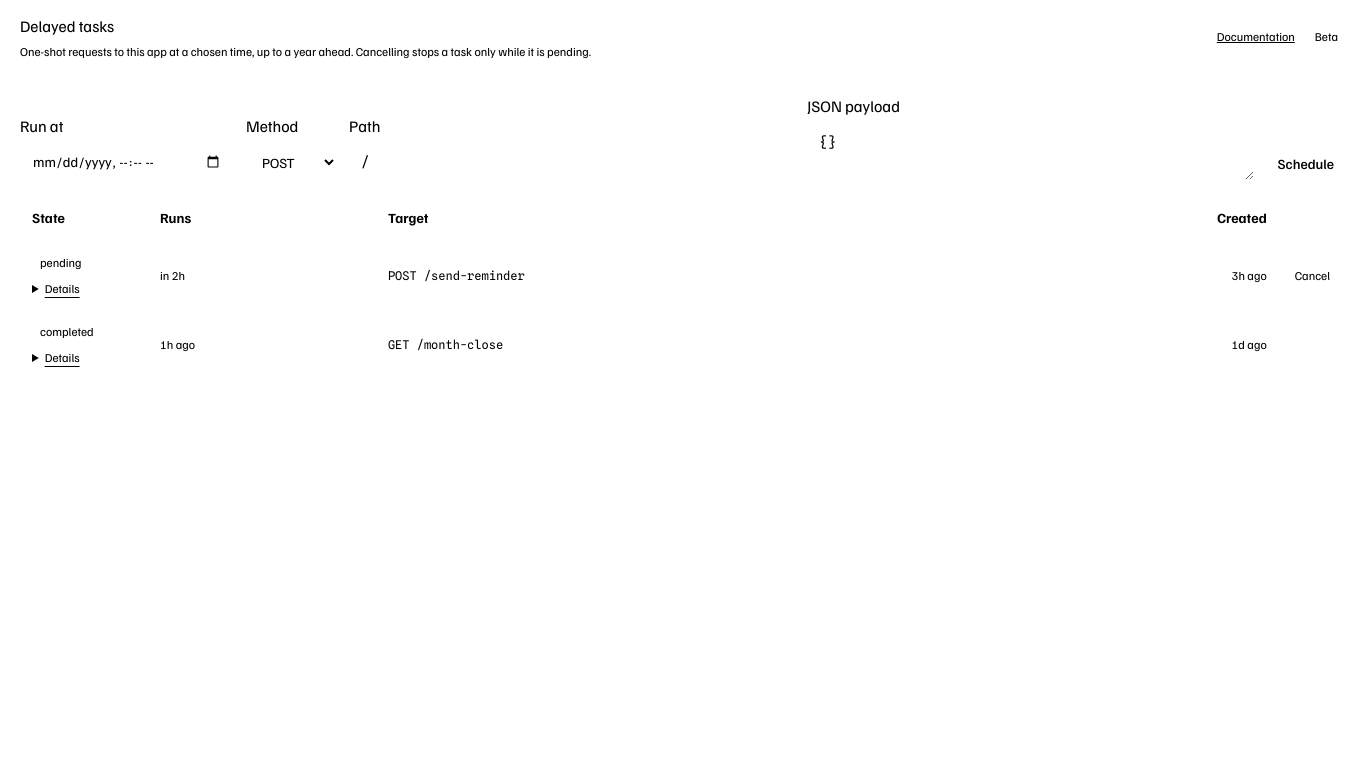
Test case: DelayedTasks cancel › reports the state the API returned when the task had already started
Click the button with aria-label "cancel task". click: (1312,276)
box: [1295,268,1330,284]
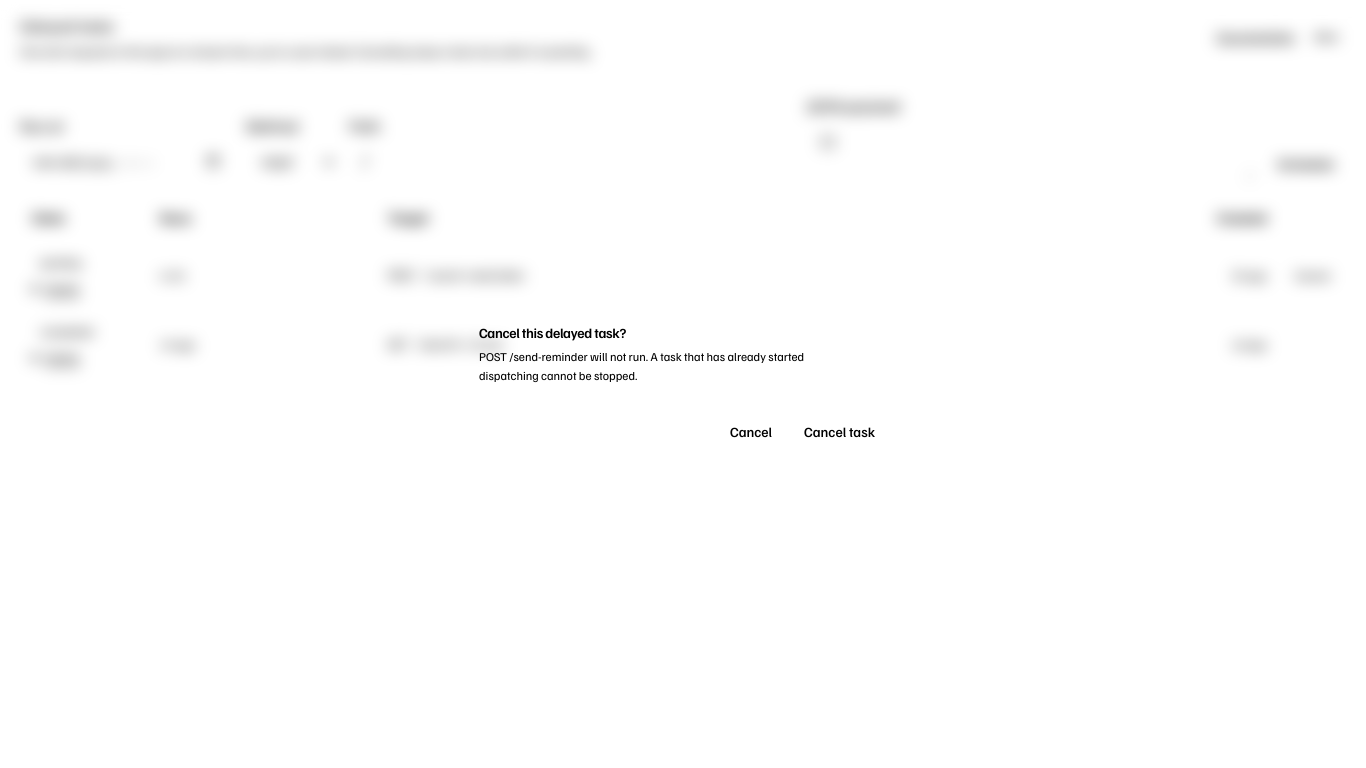
Click the button "Cancel task". click: (840,432)
box: [792,416,887,448]
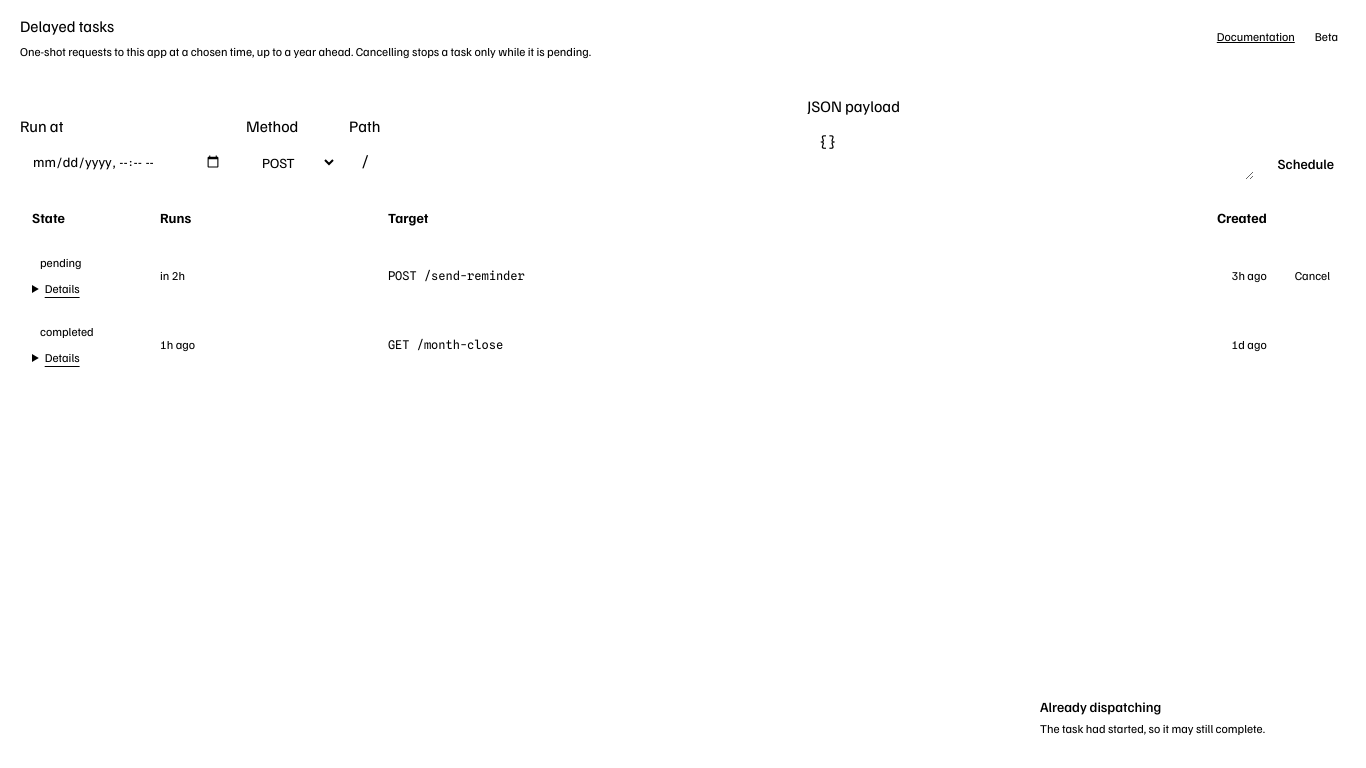
Now the text "Already dispatching" is shown, box [1040,698,1161,714]
